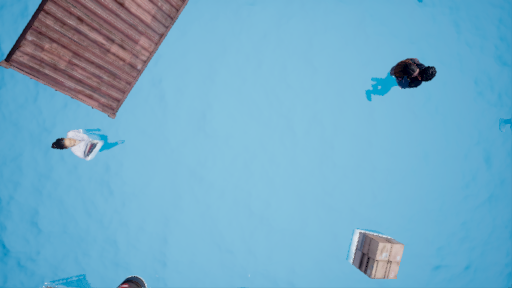person: (361, 51, 433, 113), (52, 123, 130, 167)
